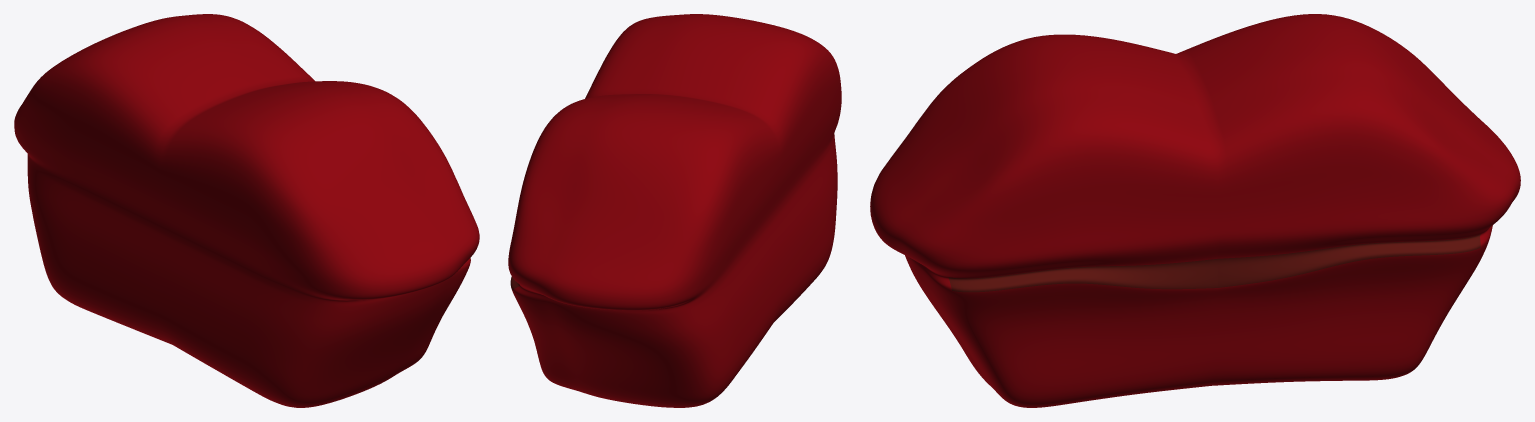
File: NRY_Telephone.fbx
3 renders of one model, left to right at view 1: azimuth 30°, elevation 25°; view 2: azimuth 150°, elevation 25°; view 3: azimuth 270°, elevation 25°, orthographic. The views are drawn at different scales.
Visible parts, largest first — view 1: Cube.091; view 2: Cube.091; view 3: Cube.091.
Part boxes in pixels (x1,y1,x2,y2): Cube.091: (14,14,479,407); Cube.091: (508,14,841,407); Cube.091: (870,14,1520,407).
Bounding box in the file's own units: 16631 × 17438 × 32731.
